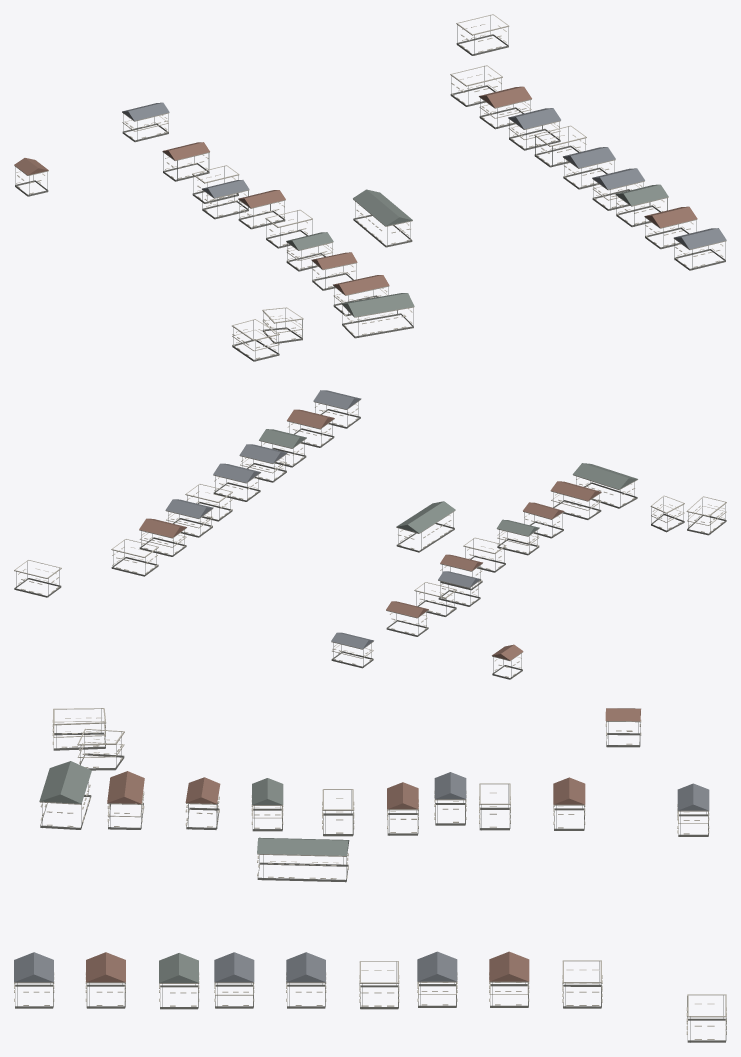
File: district_-1_-2.glb
3 renders of one model, top to bottom at view 1: azimuth 30°, elevation 25°; view 2: azimuth 150°, elevation 25°; view 3: azimuth 270°, elevation 25°, orthographic. The views are drawn at different scales.
Parts seen in each view (by area): view 1: RoofMetal, MasonryTrim, MetalDetails; view 2: RoofMetal, MasonryTrim, MetalDetails; view 3: RoofMetal, MasonryTrim, MetalDetails.
Boxes of the visible parts, bbox=[...] form: RoofMetal: bbox=[14, 86, 726, 316]; MasonryTrim: bbox=[14, 14, 726, 361]; MetalDetails: bbox=[15, 16, 725, 361]; RoofMetal: bbox=[139, 390, 637, 660]; MasonryTrim: bbox=[14, 399, 726, 679]; MetalDetails: bbox=[16, 401, 725, 678]; RoofMetal: bbox=[14, 708, 709, 982]; MasonryTrim: bbox=[14, 708, 726, 1042]; MetalDetails: bbox=[14, 709, 726, 1042].
Size of the model in its own units: 188 by 9.92 by 184.
